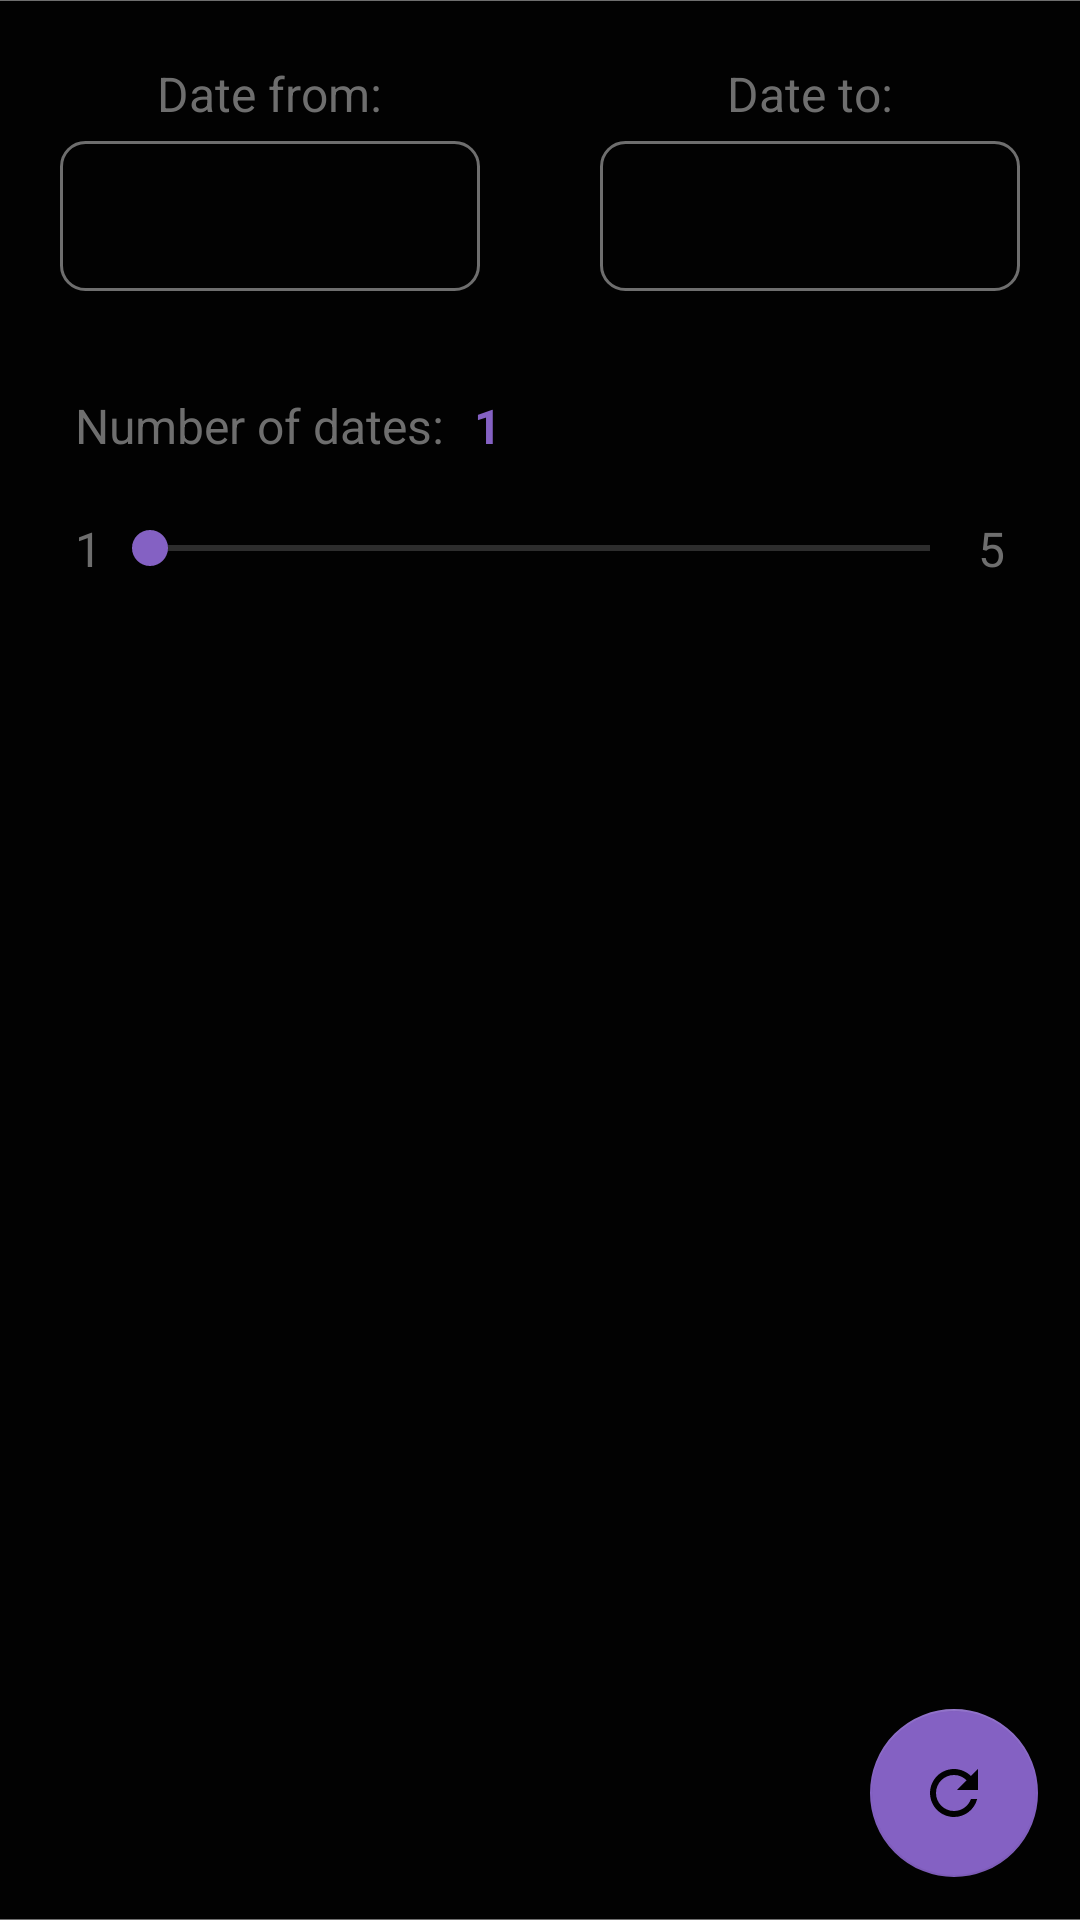

Icon click points for this 1080 x 1920 phone screenshot, format [x,y]:
refresh: [954,1793]
